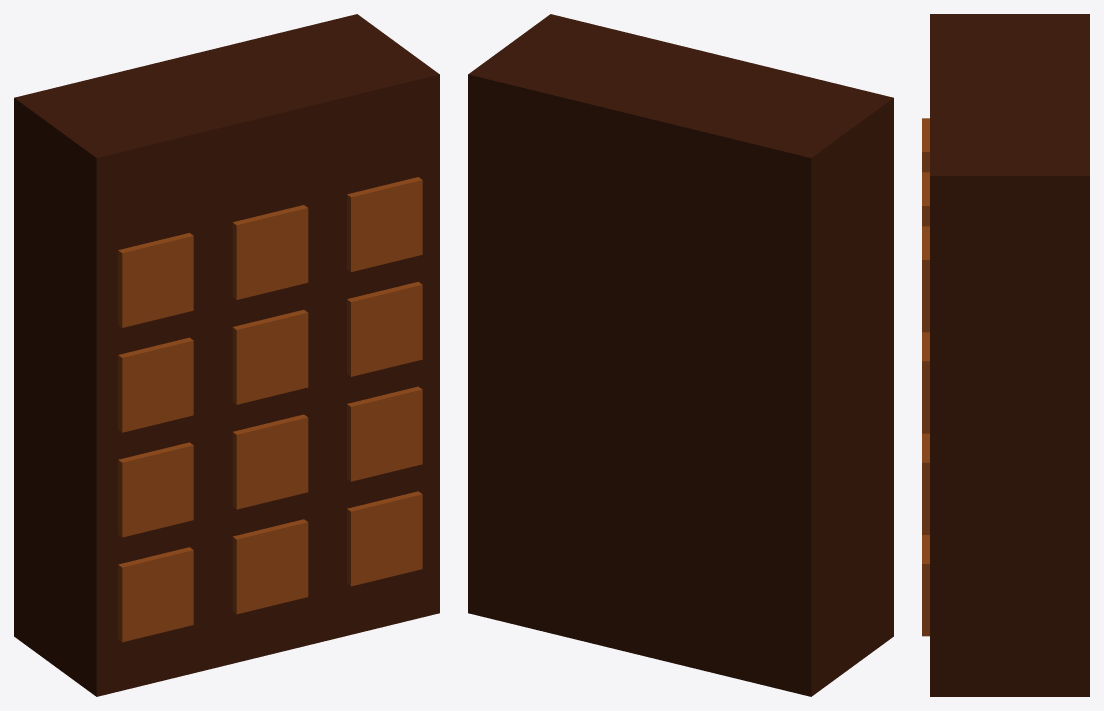
The model's file is apothecary_cabinet.obj.
The picture shows the model from 3 angles, left to right: view 1: azimuth 30°, elevation 25°; view 2: azimuth 150°, elevation 25°; view 3: azimuth 270°, elevation 25°; orthographic projection. The views are drawn at different scales.
Visible parts, largest first — view 1: apothecary_cabinet; view 2: apothecary_cabinet; view 3: apothecary_cabinet.
Part boxes in pixels (left/top/right/bottom): apothecary_cabinet: left=14, top=14, right=439, bottom=696; apothecary_cabinet: left=468, top=14, right=893, bottom=696; apothecary_cabinet: left=922, top=14, right=1089, bottom=696.
Size of the model in its own units: 1.2 by 1.8 by 0.525.
